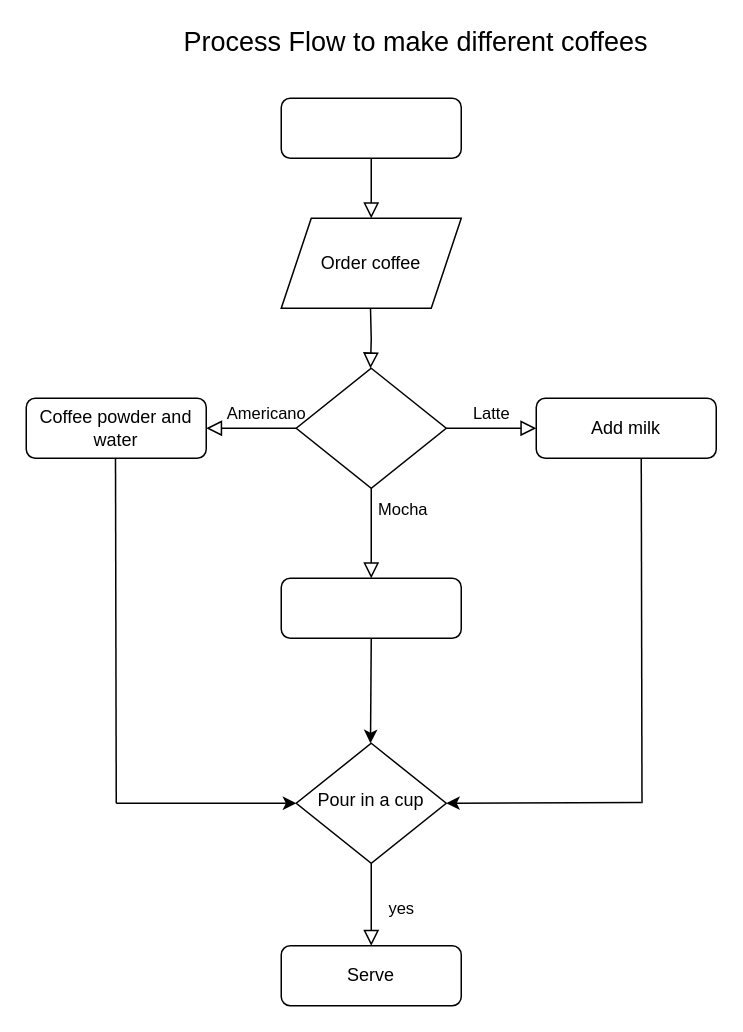
Image size: 743x1032. Some labels were removed from this diagram. The centre of each missing label's shape, as x and y in pixels:
"Add Chocolate powder" goes at (370,607).
"Begin" goes at (370,127).
"Coffee" goes at (370,427).
